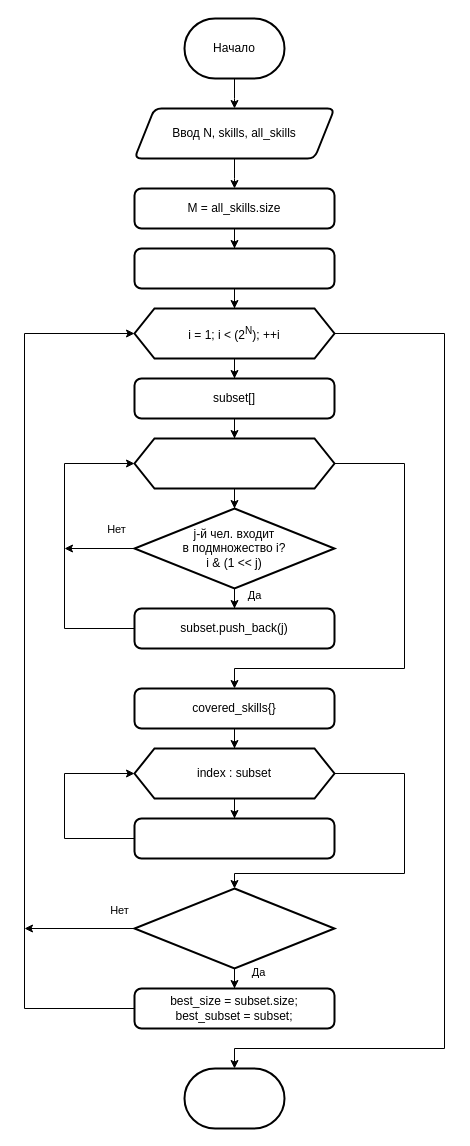
The diagram is 470 pixels wide and 1146 high, and some of its shapes have lost their labels. Here are the shapes that lost their labels. From the top down, the centre of each, then its label:
At point (234, 268): "best_subset[]; best_size = N + 1;".
At point (234, 463): "j = 0; j < N; ++j".
At point (234, 838): "covered_skills.insert(skills[index])".
At point (234, 928): "covered_skills.size == M И subset.size < best_size".
At point (234, 1098): "Конец (возврат best_subset)".
